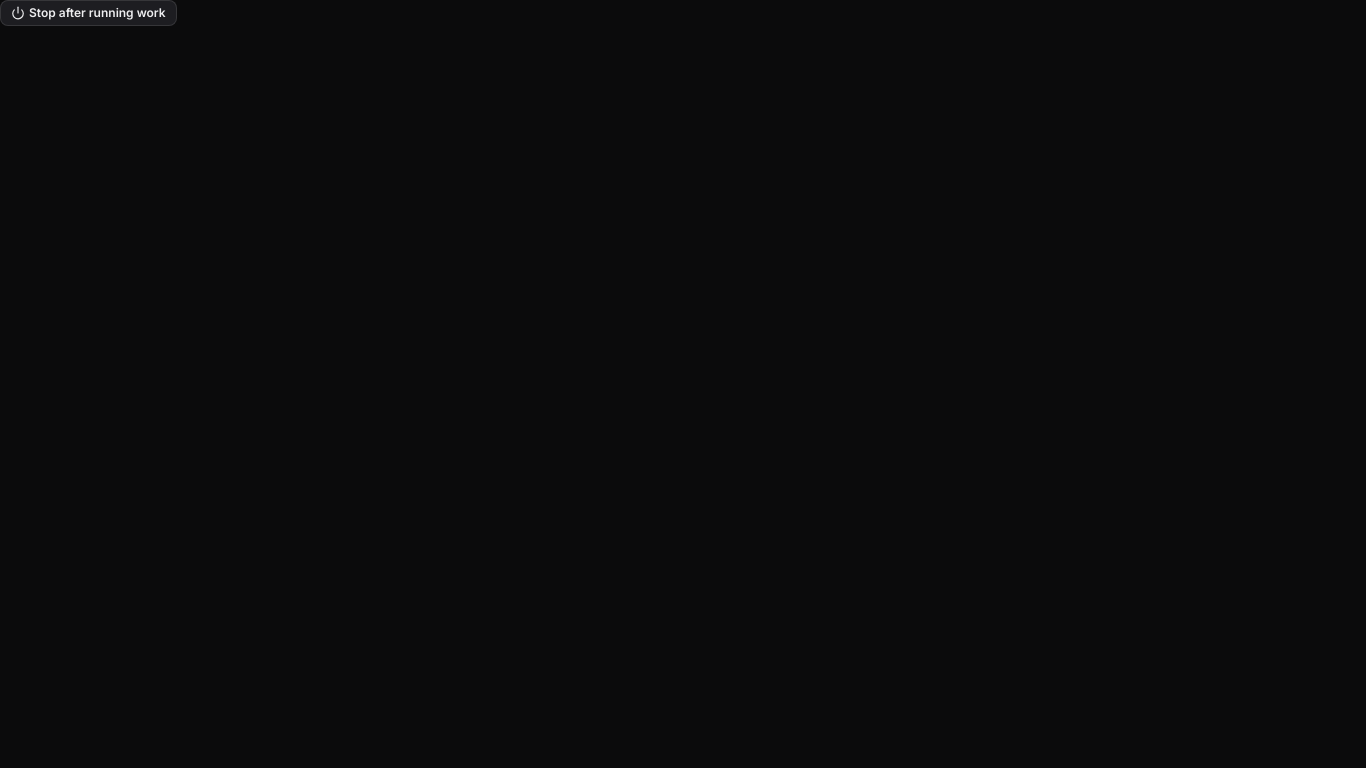
Test case: DrainControl as a button › shows what the factory says it did once the drain is accepted
This screenshot has width=1366, height=768.
Click the button "Stop after running work": (88, 13) 0,0 -> 177,26
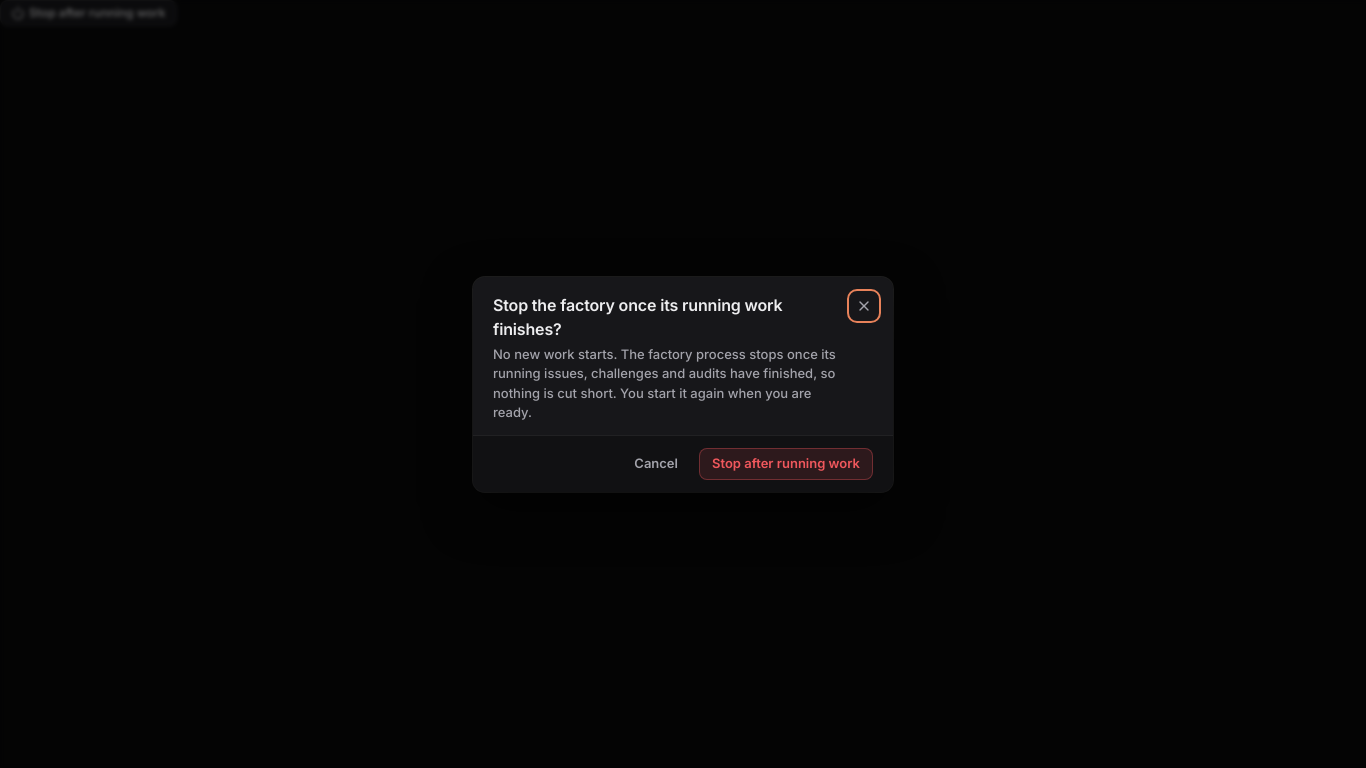
Click the button "Stop after running work": (786, 464) 699,448 -> 873,480
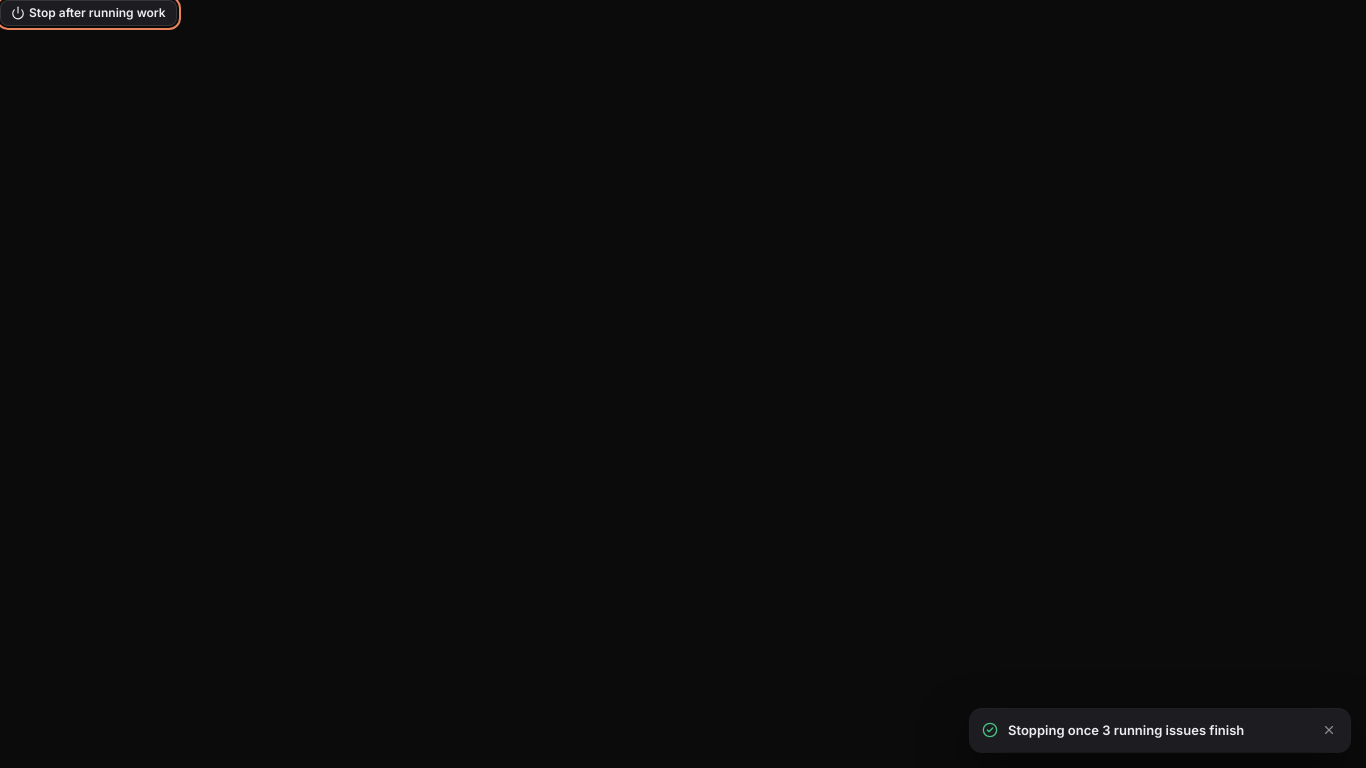
Check: the text "Stopping once 3 running issues finish" is shown, box 1008,722 -> 1244,738
